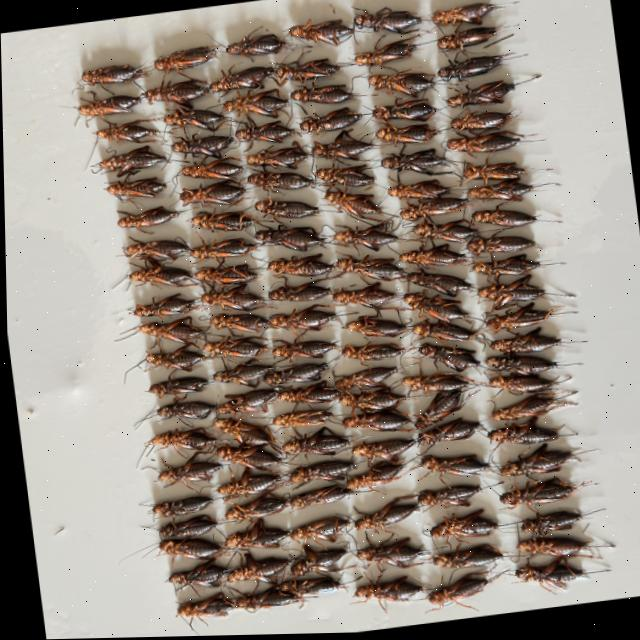egg: (497, 479, 593, 508), (497, 445, 576, 477), (476, 276, 543, 311), (484, 304, 561, 334), (94, 145, 166, 176), (488, 396, 575, 421), (512, 558, 581, 589), (352, 497, 415, 530), (310, 130, 376, 161), (424, 575, 488, 606), (485, 419, 560, 445), (435, 54, 510, 80), (428, 510, 494, 539), (354, 538, 420, 567), (212, 467, 278, 496), (136, 316, 201, 345), (332, 222, 397, 251), (222, 518, 286, 547), (518, 511, 598, 534), (353, 8, 421, 35), (210, 417, 273, 446), (413, 391, 461, 429), (143, 79, 208, 107), (222, 89, 287, 117), (445, 81, 514, 107), (155, 453, 219, 481), (224, 554, 288, 582), (280, 428, 346, 455), (350, 577, 421, 602), (323, 190, 386, 218), (266, 304, 333, 330), (367, 71, 434, 97), (417, 344, 477, 373), (198, 283, 262, 310), (402, 294, 466, 321), (465, 180, 543, 202), (488, 329, 559, 353), (429, 4, 503, 27), (331, 283, 399, 308), (253, 227, 321, 252), (288, 20, 353, 46), (337, 255, 402, 281), (416, 418, 478, 445), (214, 444, 278, 470), (130, 294, 202, 317), (428, 545, 500, 568), (468, 255, 540, 278), (403, 272, 469, 297), (245, 142, 306, 169), (222, 493, 285, 519), (445, 133, 523, 154), (178, 180, 243, 205), (287, 545, 343, 574), (165, 559, 225, 586), (153, 46, 215, 72), (285, 517, 349, 542), (208, 66, 272, 91), (174, 592, 231, 620), (343, 461, 400, 489), (209, 361, 270, 387), (274, 59, 340, 83), (380, 150, 443, 175), (145, 427, 213, 450), (230, 587, 295, 611), (410, 320, 475, 344), (144, 344, 203, 370), (398, 198, 467, 220), (266, 254, 332, 277), (212, 357, 268, 384), (353, 42, 416, 66), (449, 111, 517, 133), (94, 119, 159, 142), (299, 108, 361, 132), (287, 460, 353, 482), (337, 390, 403, 412), (398, 244, 464, 266), (116, 206, 181, 228), (469, 206, 534, 228), (188, 238, 256, 259), (286, 485, 348, 508), (483, 357, 558, 376), (214, 389, 273, 413), (411, 220, 475, 242), (333, 368, 394, 391), (486, 375, 556, 395), (81, 64, 147, 85), (275, 381, 338, 403), (349, 440, 412, 462), (372, 100, 435, 122), (374, 124, 437, 146), (514, 538, 583, 558), (437, 28, 497, 51), (464, 236, 533, 256), (103, 177, 165, 199), (162, 109, 224, 131), (418, 456, 486, 476), (226, 34, 285, 57), (76, 95, 140, 116), (261, 363, 325, 384), (414, 487, 478, 508), (170, 135, 231, 157), (121, 239, 188, 259), (340, 412, 407, 432), (399, 374, 465, 394), (155, 538, 217, 559), (193, 263, 255, 284), (314, 165, 373, 187), (342, 316, 403, 337), (180, 157, 241, 178), (126, 266, 190, 286), (200, 336, 264, 356), (188, 211, 251, 231), (147, 496, 209, 516), (267, 281, 329, 301), (156, 515, 214, 536), (235, 121, 293, 142), (253, 199, 317, 218), (275, 578, 335, 598), (461, 163, 524, 182), (246, 172, 312, 190), (146, 377, 205, 397), (387, 180, 447, 199), (270, 410, 331, 428), (290, 85, 351, 103), (270, 341, 334, 358), (339, 343, 402, 360), (154, 401, 212, 419), (208, 314, 263, 332), (379, 12, 421, 35), (228, 35, 270, 57), (580, 542, 613, 560), (235, 429, 269, 446), (577, 570, 608, 580), (529, 183, 559, 192), (532, 216, 561, 225), (518, 135, 544, 144), (518, 75, 541, 84), (541, 293, 575, 299), (536, 261, 565, 268), (496, 2, 519, 10), (549, 313, 577, 319), (495, 25, 519, 32), (503, 55, 528, 60), (525, 169, 552, 173), (306, 95, 316, 102), (356, 349, 365, 356), (420, 381, 429, 386), (299, 392, 307, 397), (233, 371, 239, 376), (330, 96, 335, 102)
